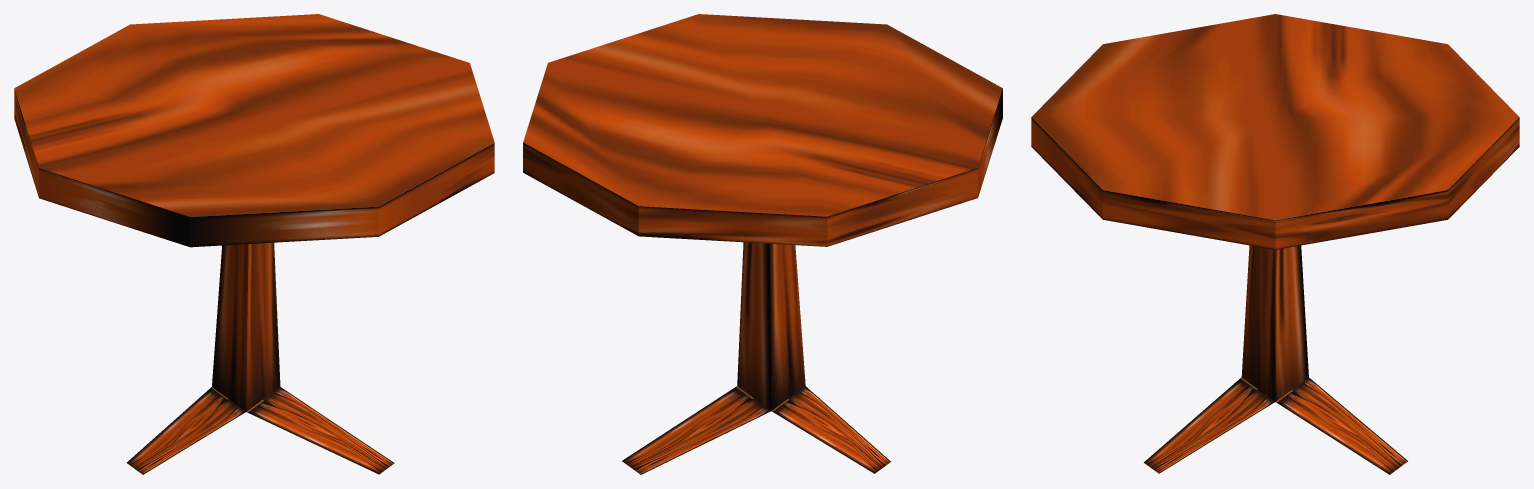
File: Tisch_Rund_1365.glb
3 views of the same model, side by side, from view 1: azimuth 30°, elevation 25°; view 2: azimuth 150°, elevation 25°; view 3: azimuth 270°, elevation 25° (orthographic).
Visible parts, largest first — view 1: pPlaneShape67, pCylinderShape105, pCylinderShape101, pPlaneShape66, pPlaneShape64; view 2: pPlaneShape67, pCylinderShape105, pCylinderShape101, pPlaneShape65, pPlaneShape64; view 3: pPlaneShape67, pCylinderShape105, pCylinderShape101, pPlaneShape65, pPlaneShape66.
Boxes of the visible parts, left/top/right/bottom form: pPlaneShape67: left=14, top=14, right=494, bottom=216; pCylinderShape105: left=14, top=89, right=494, bottom=247; pCylinderShape101: left=212, top=242, right=280, bottom=412; pPlaneShape66: left=247, top=387, right=394, bottom=474; pPlaneShape64: left=126, top=387, right=245, bottom=474; pPlaneShape67: left=523, top=14, right=1002, bottom=216; pCylinderShape105: left=523, top=88, right=1002, bottom=246; pCylinderShape101: left=737, top=242, right=805, bottom=410; pPlaneShape65: left=622, top=386, right=771, bottom=474; pPlaneShape64: left=772, top=386, right=890, bottom=473; pPlaneShape67: left=1031, top=14, right=1519, bottom=220; pCylinderShape105: left=1031, top=117, right=1519, bottom=249; pCylinderShape101: left=1241, top=245, right=1308, bottom=402; pPlaneShape65: left=1276, top=377, right=1407, bottom=474; pPlaneShape66: left=1144, top=377, right=1274, bottom=473.
Size of the model in its own units: 0.1581 by 0.1136 by 0.1581.
6 materials, 6 textured.
